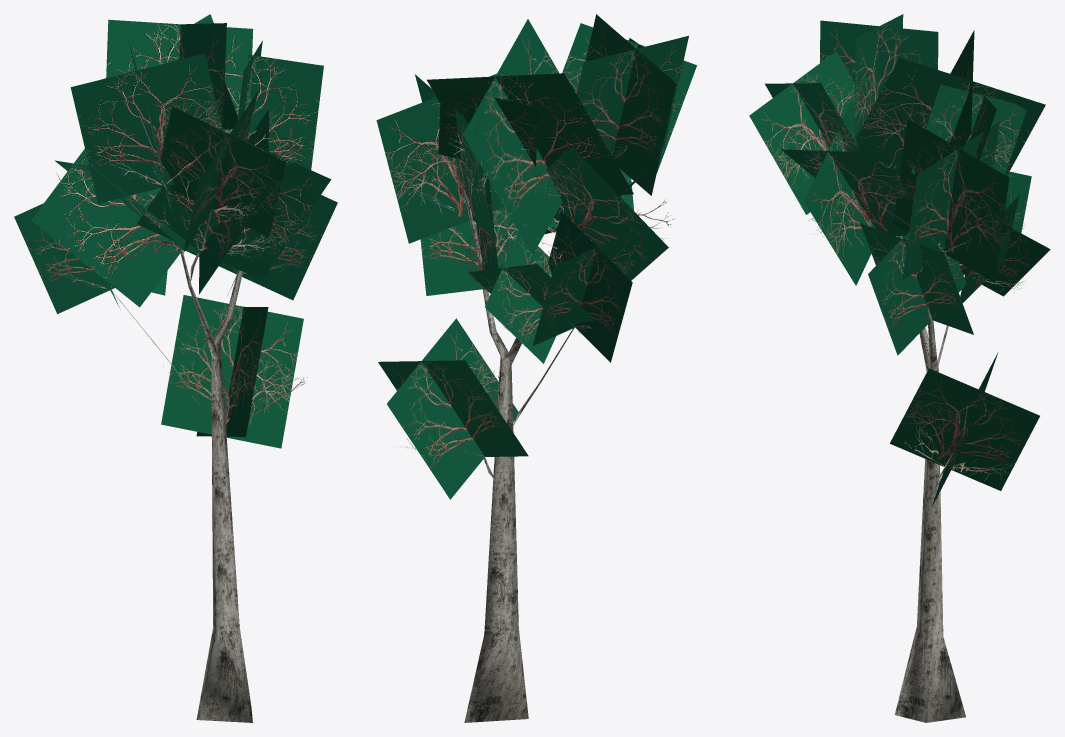
File: decd_whitebirchtreebranches_l1.fbx
3 renders of one model, left to right at view 1: azimuth 30°, elevation 25°; view 2: azimuth 150°, elevation 25°; view 3: azimuth 270°, elevation 25°, orthographic. The views are drawn at different scales.
Visible parts, largest first — view 1: mesh_node; view 2: mesh_node; view 3: mesh_node.
Boxes of the visible parts, bbox=[...] form: mesh_node: bbox=[14, 14, 337, 722]; mesh_node: bbox=[376, 14, 696, 722]; mesh_node: bbox=[749, 14, 1050, 722].
Bounding box in the file's own units: 6.59 × 14.67 × 6.24.
